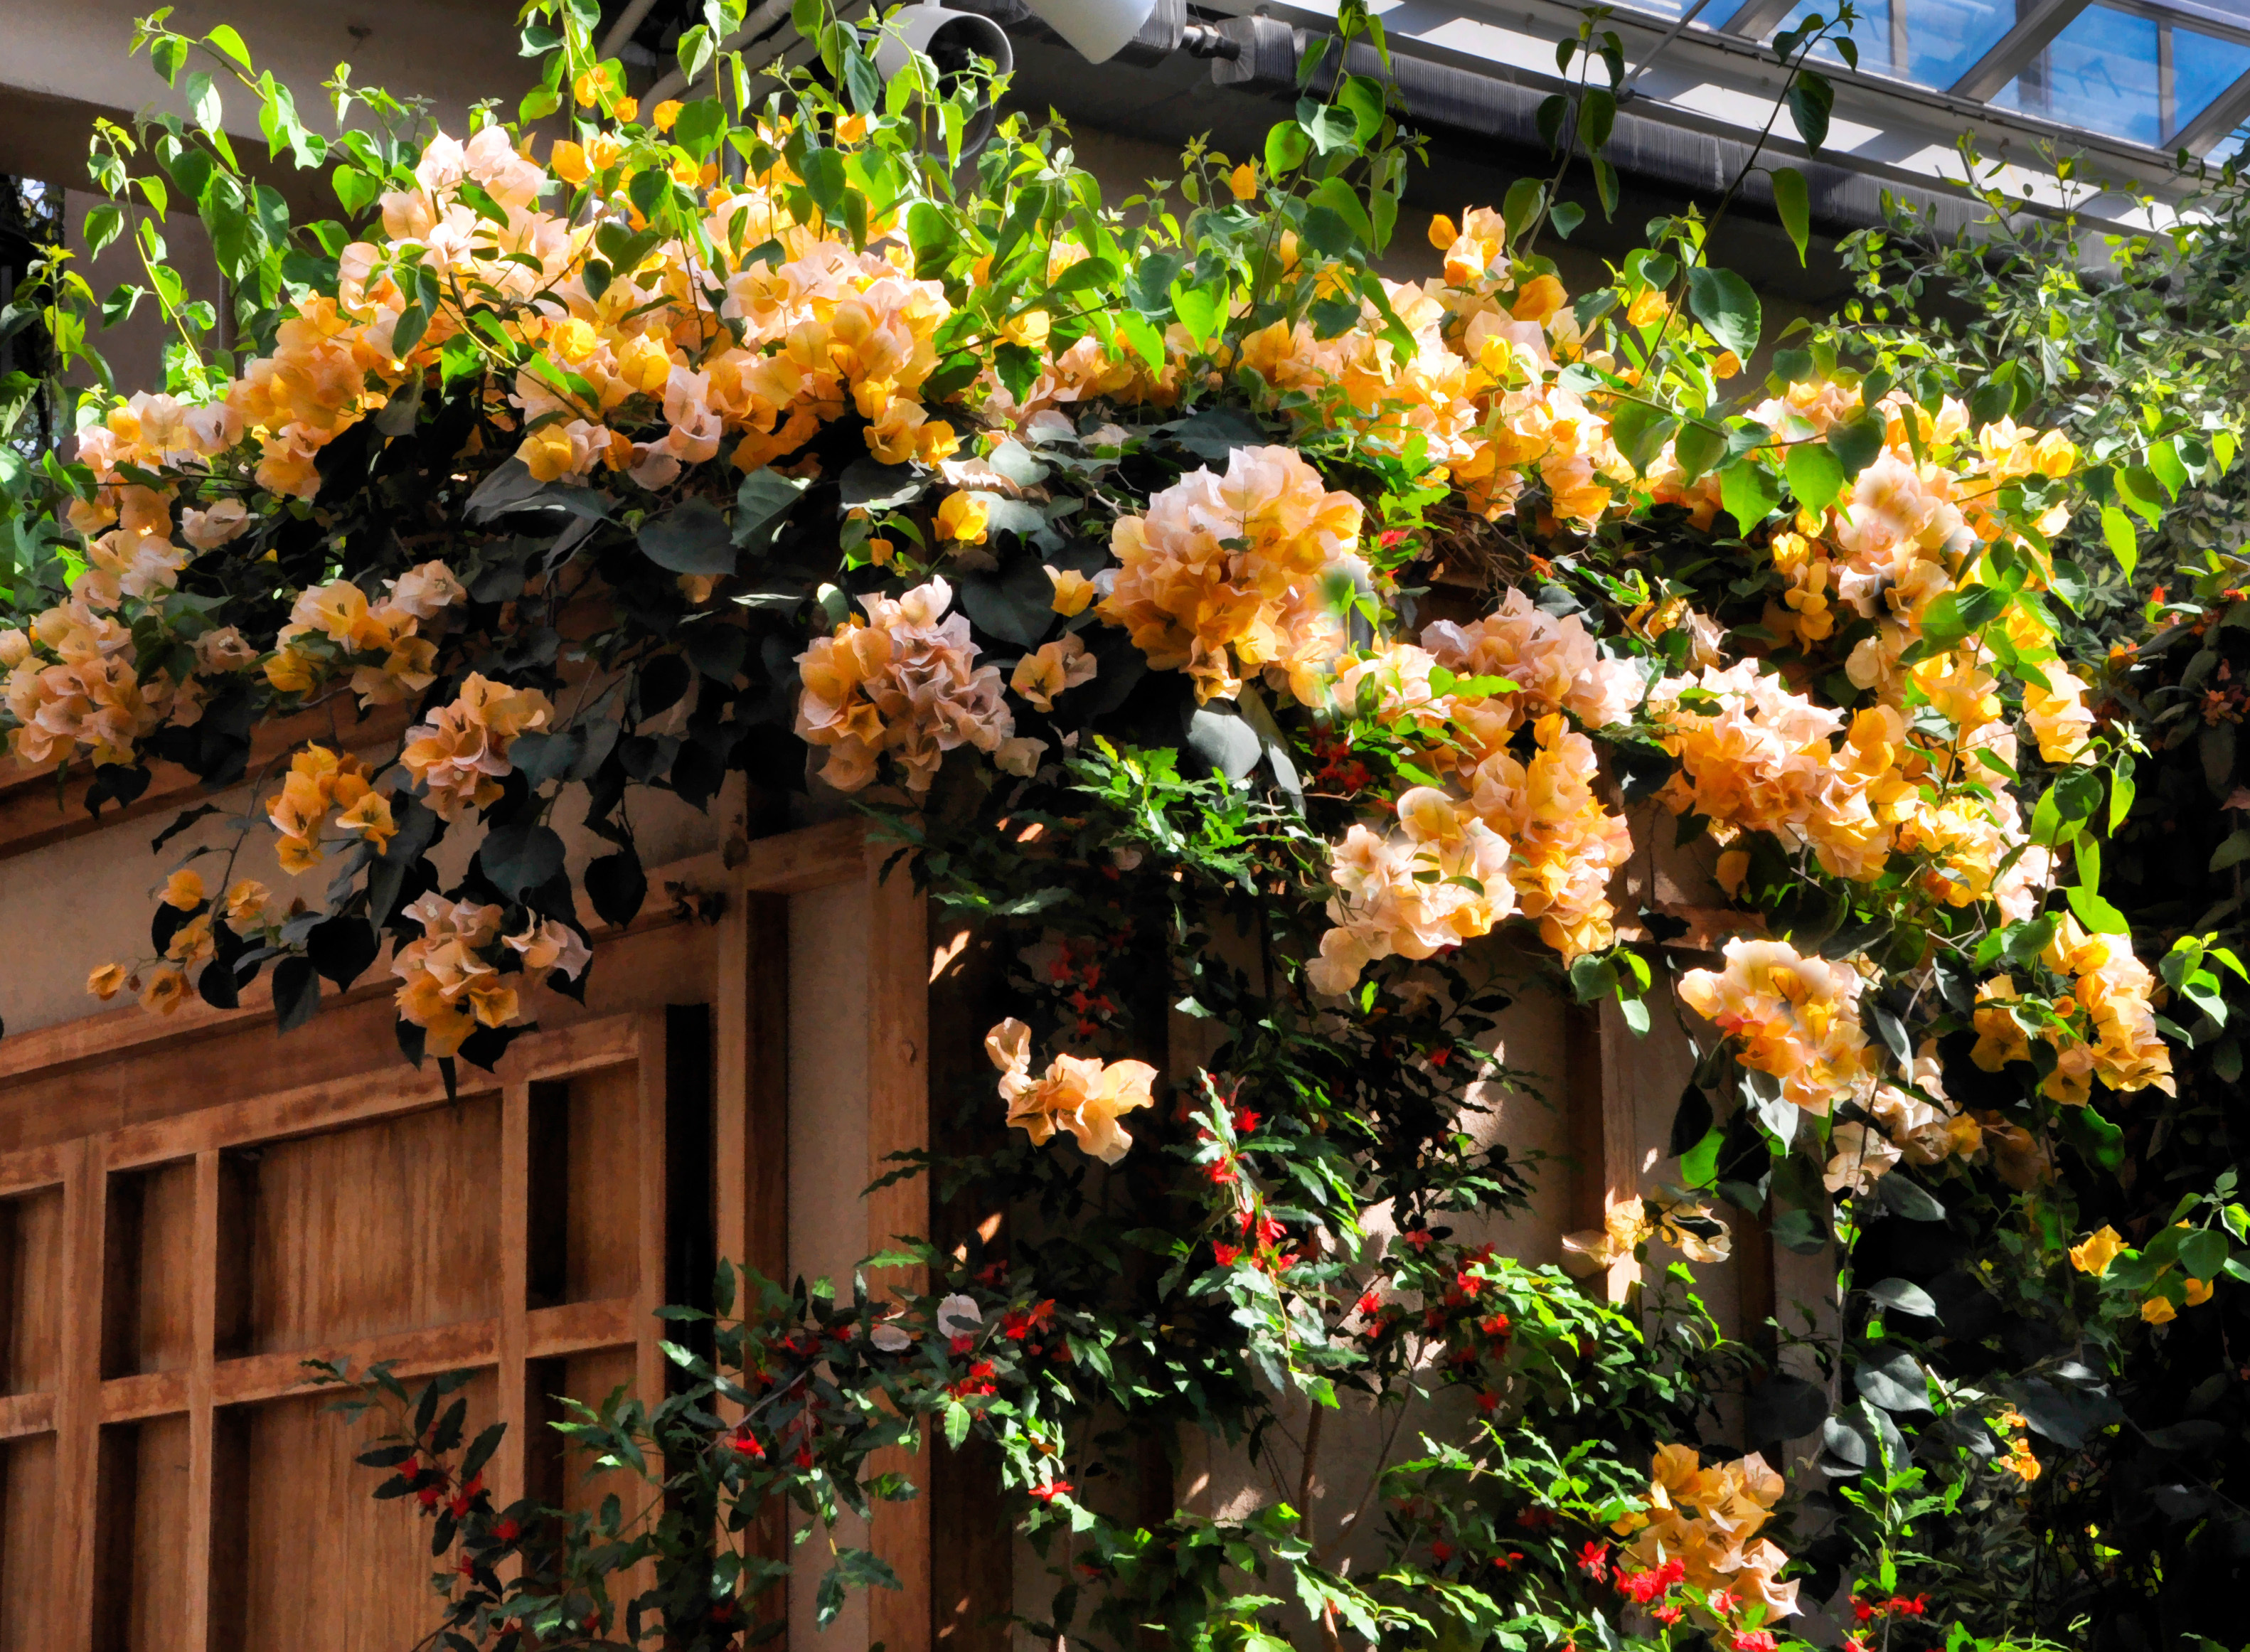bougainvillea: (887, 585, 975, 651), (508, 912, 583, 988), (1691, 1469, 1775, 1535), (1626, 1516, 1710, 1566), (1974, 1008, 2028, 1074), (267, 768, 320, 835), (1010, 651, 1064, 711), (428, 941, 489, 994), (398, 896, 463, 943), (341, 796, 395, 850), (2047, 1051, 2098, 1107), (168, 919, 222, 967), (318, 580, 367, 634), (426, 218, 475, 271), (1651, 1441, 1700, 1491), (393, 641, 437, 693), (208, 625, 252, 676), (424, 758, 480, 796), (145, 969, 192, 1011), (229, 885, 266, 924)
